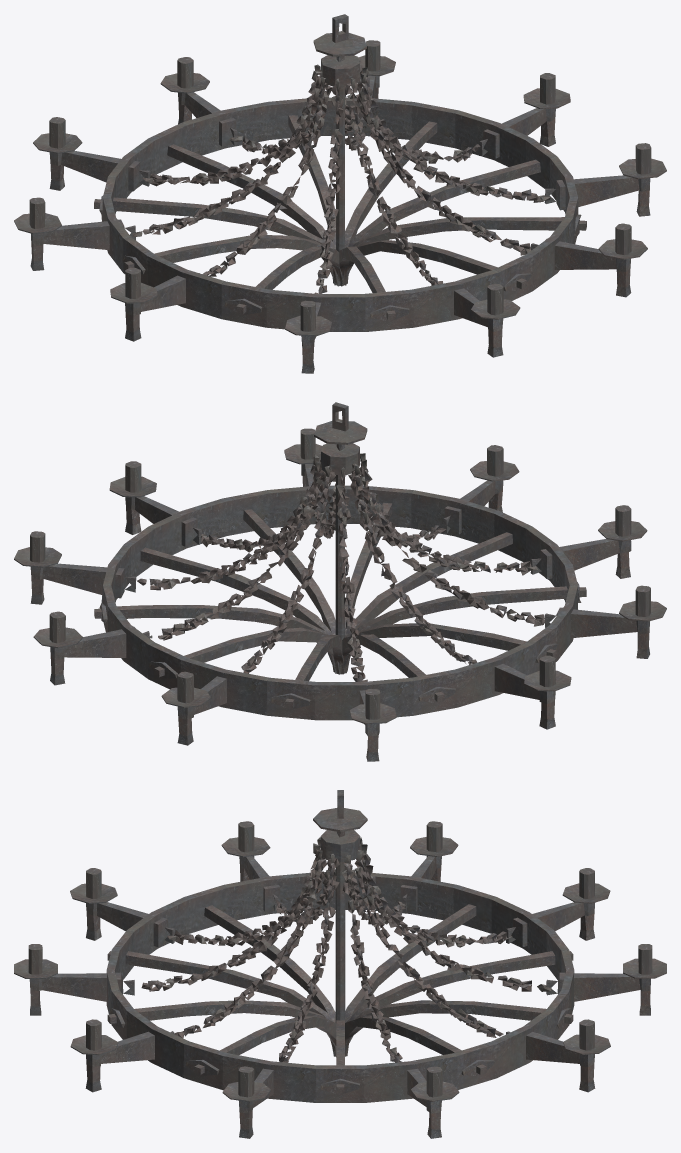
File: SM_IronChandelier.fbx
The picture shows the model from 3 angles, top to bottom: view 1: azimuth 30°, elevation 25°; view 2: azimuth 150°, elevation 25°; view 3: azimuth 270°, elevation 25°; orthographic projection.
Parts seen in each view (by area): view 1: SM_IronChandelier_LOD0; view 2: SM_IronChandelier_LOD0; view 3: SM_IronChandelier_LOD0.
Part boxes in pixels (x1,y1,x2,y2): SM_IronChandelier_LOD0: (14,14,666,373); SM_IronChandelier_LOD0: (14,402,666,761); SM_IronChandelier_LOD0: (14,790,666,1138).
Size of the model in its own units: 175 by 182 by 80.95.
